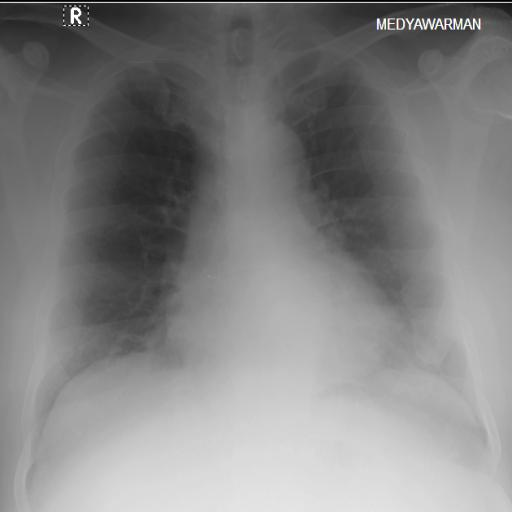kardiomegali: (29, 14, 490, 470)
